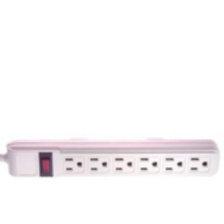three_eye_plug: (3, 136, 220, 178)
